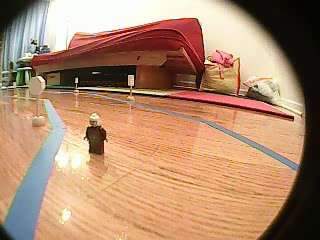Person: (83, 112, 110, 157)
